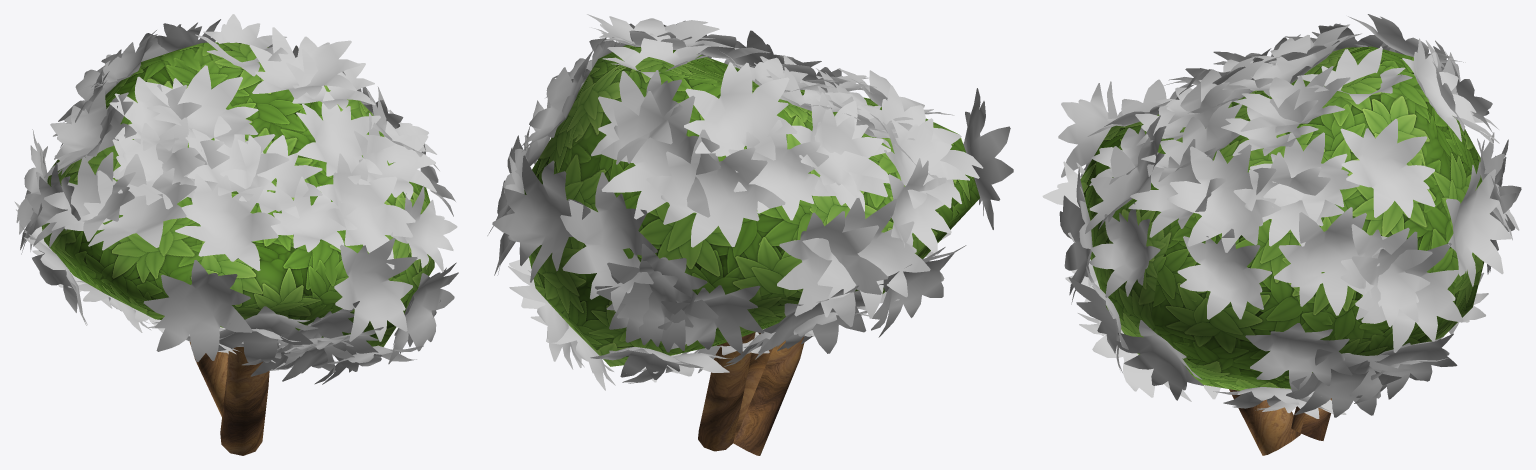
The model's file is bush_01.fbx.
3 renders of one model, left to right at view 1: azimuth 30°, elevation 25°; view 2: azimuth 150°, elevation 25°; view 3: azimuth 270°, elevation 25°, orthographic. The views are drawn at different scales.
Visible parts, largest first — view 1: bush_01; view 2: bush_01; view 3: bush_01.
Boxes of the visible parts, x1,y1,x2,y2 form: bush_01: [14, 14, 458, 455]; bush_01: [487, 14, 1013, 455]; bush_01: [1042, 14, 1521, 455].
Size of the model in its own units: 37.46 by 36.14 by 37.41.
